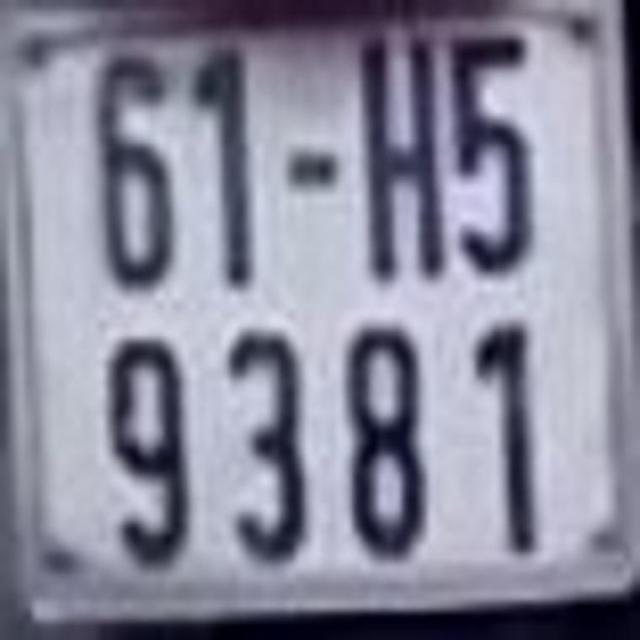1: (190, 42, 265, 288), (471, 321, 549, 556)
3: (223, 322, 308, 564)
5: (450, 31, 539, 276)
6: (93, 49, 177, 290)
8: (345, 320, 429, 561)
9: (104, 332, 192, 569)
H: (358, 29, 450, 288)
